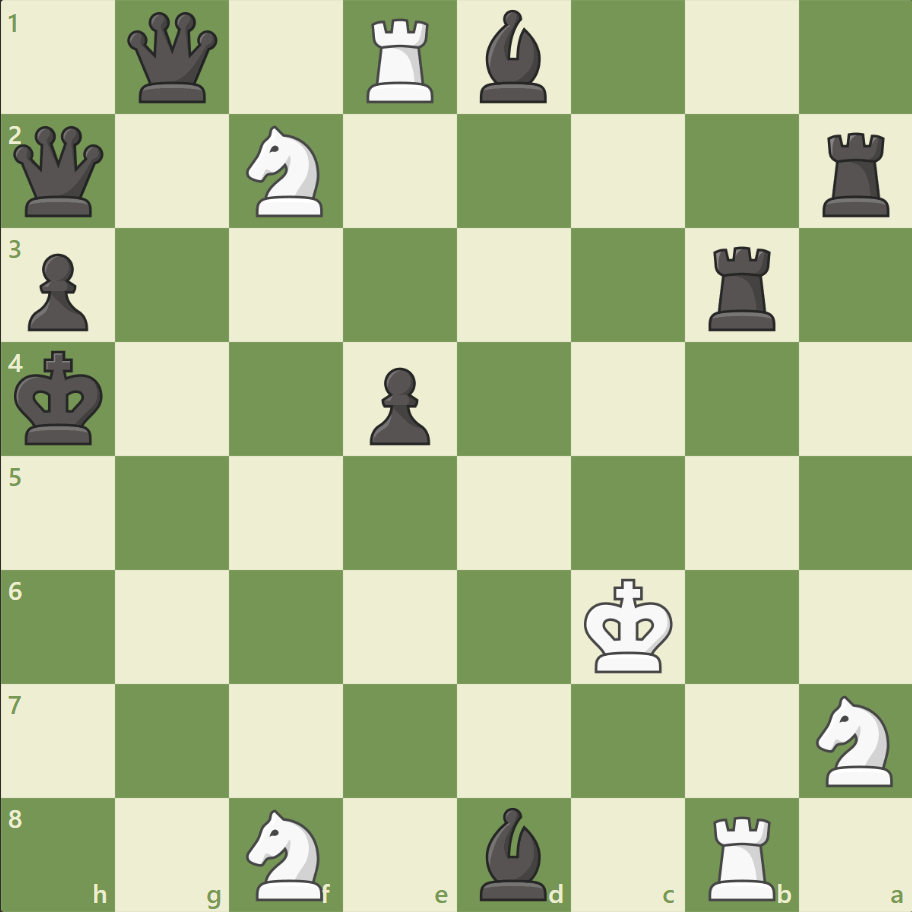K: (579, 571, 679, 679)
N: (806, 688, 903, 791), (238, 802, 335, 904), (238, 121, 335, 223)
R: (700, 806, 783, 904), (360, 12, 442, 109)
b: (471, 801, 555, 904), (471, 6, 555, 109)
k: (11, 344, 111, 452)
p: (20, 246, 95, 337), (361, 359, 435, 450)
q: (10, 122, 109, 222), (124, 9, 223, 108)
r: (700, 239, 783, 336), (814, 125, 897, 222)
